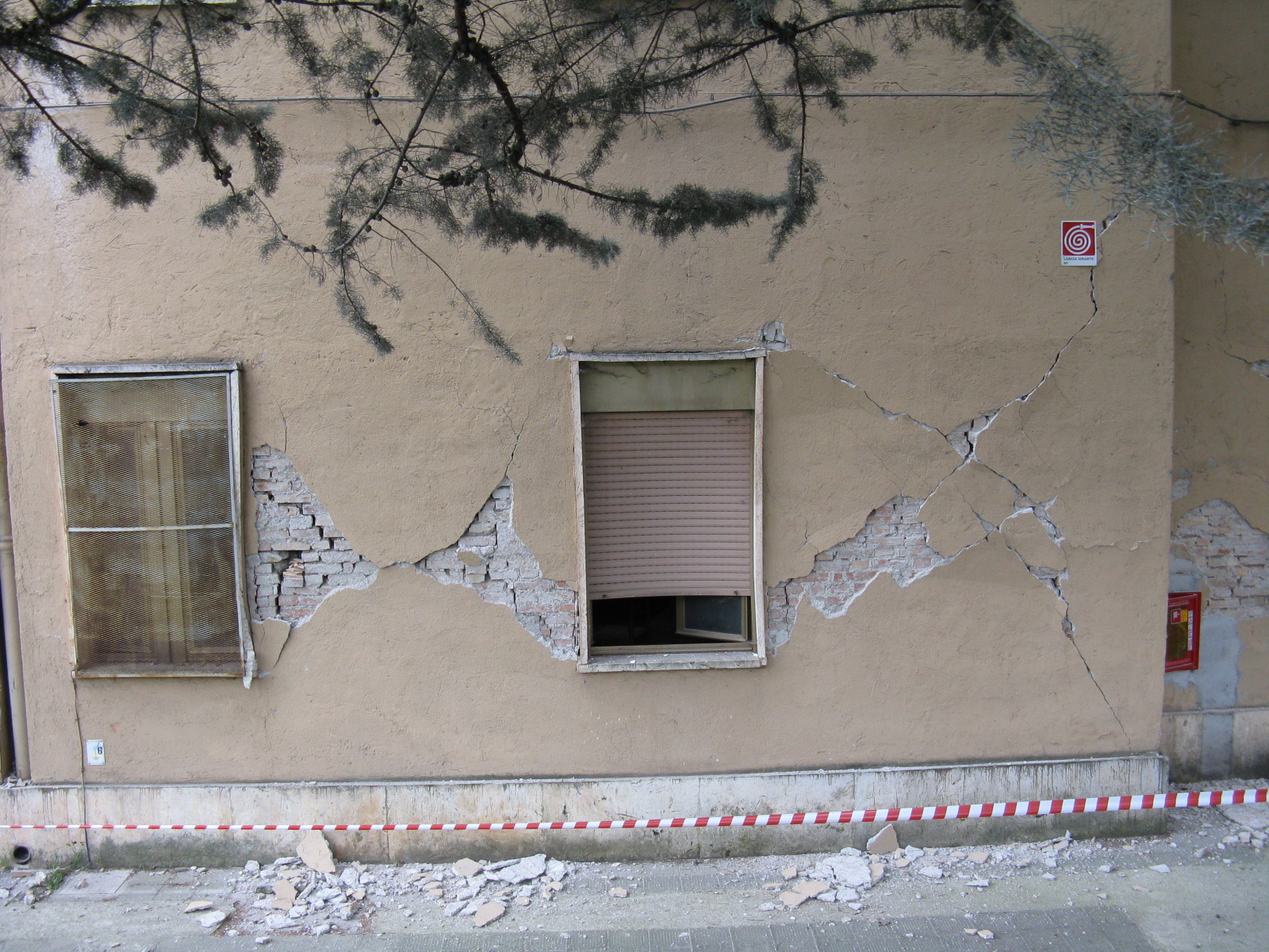Crack: (757, 200, 1171, 764), (244, 374, 573, 678)
Debris: (773, 801, 1266, 942), (182, 818, 637, 935), (3, 868, 90, 911)
Spalling: (245, 417, 574, 658), (782, 462, 987, 634), (1178, 483, 1268, 615)
